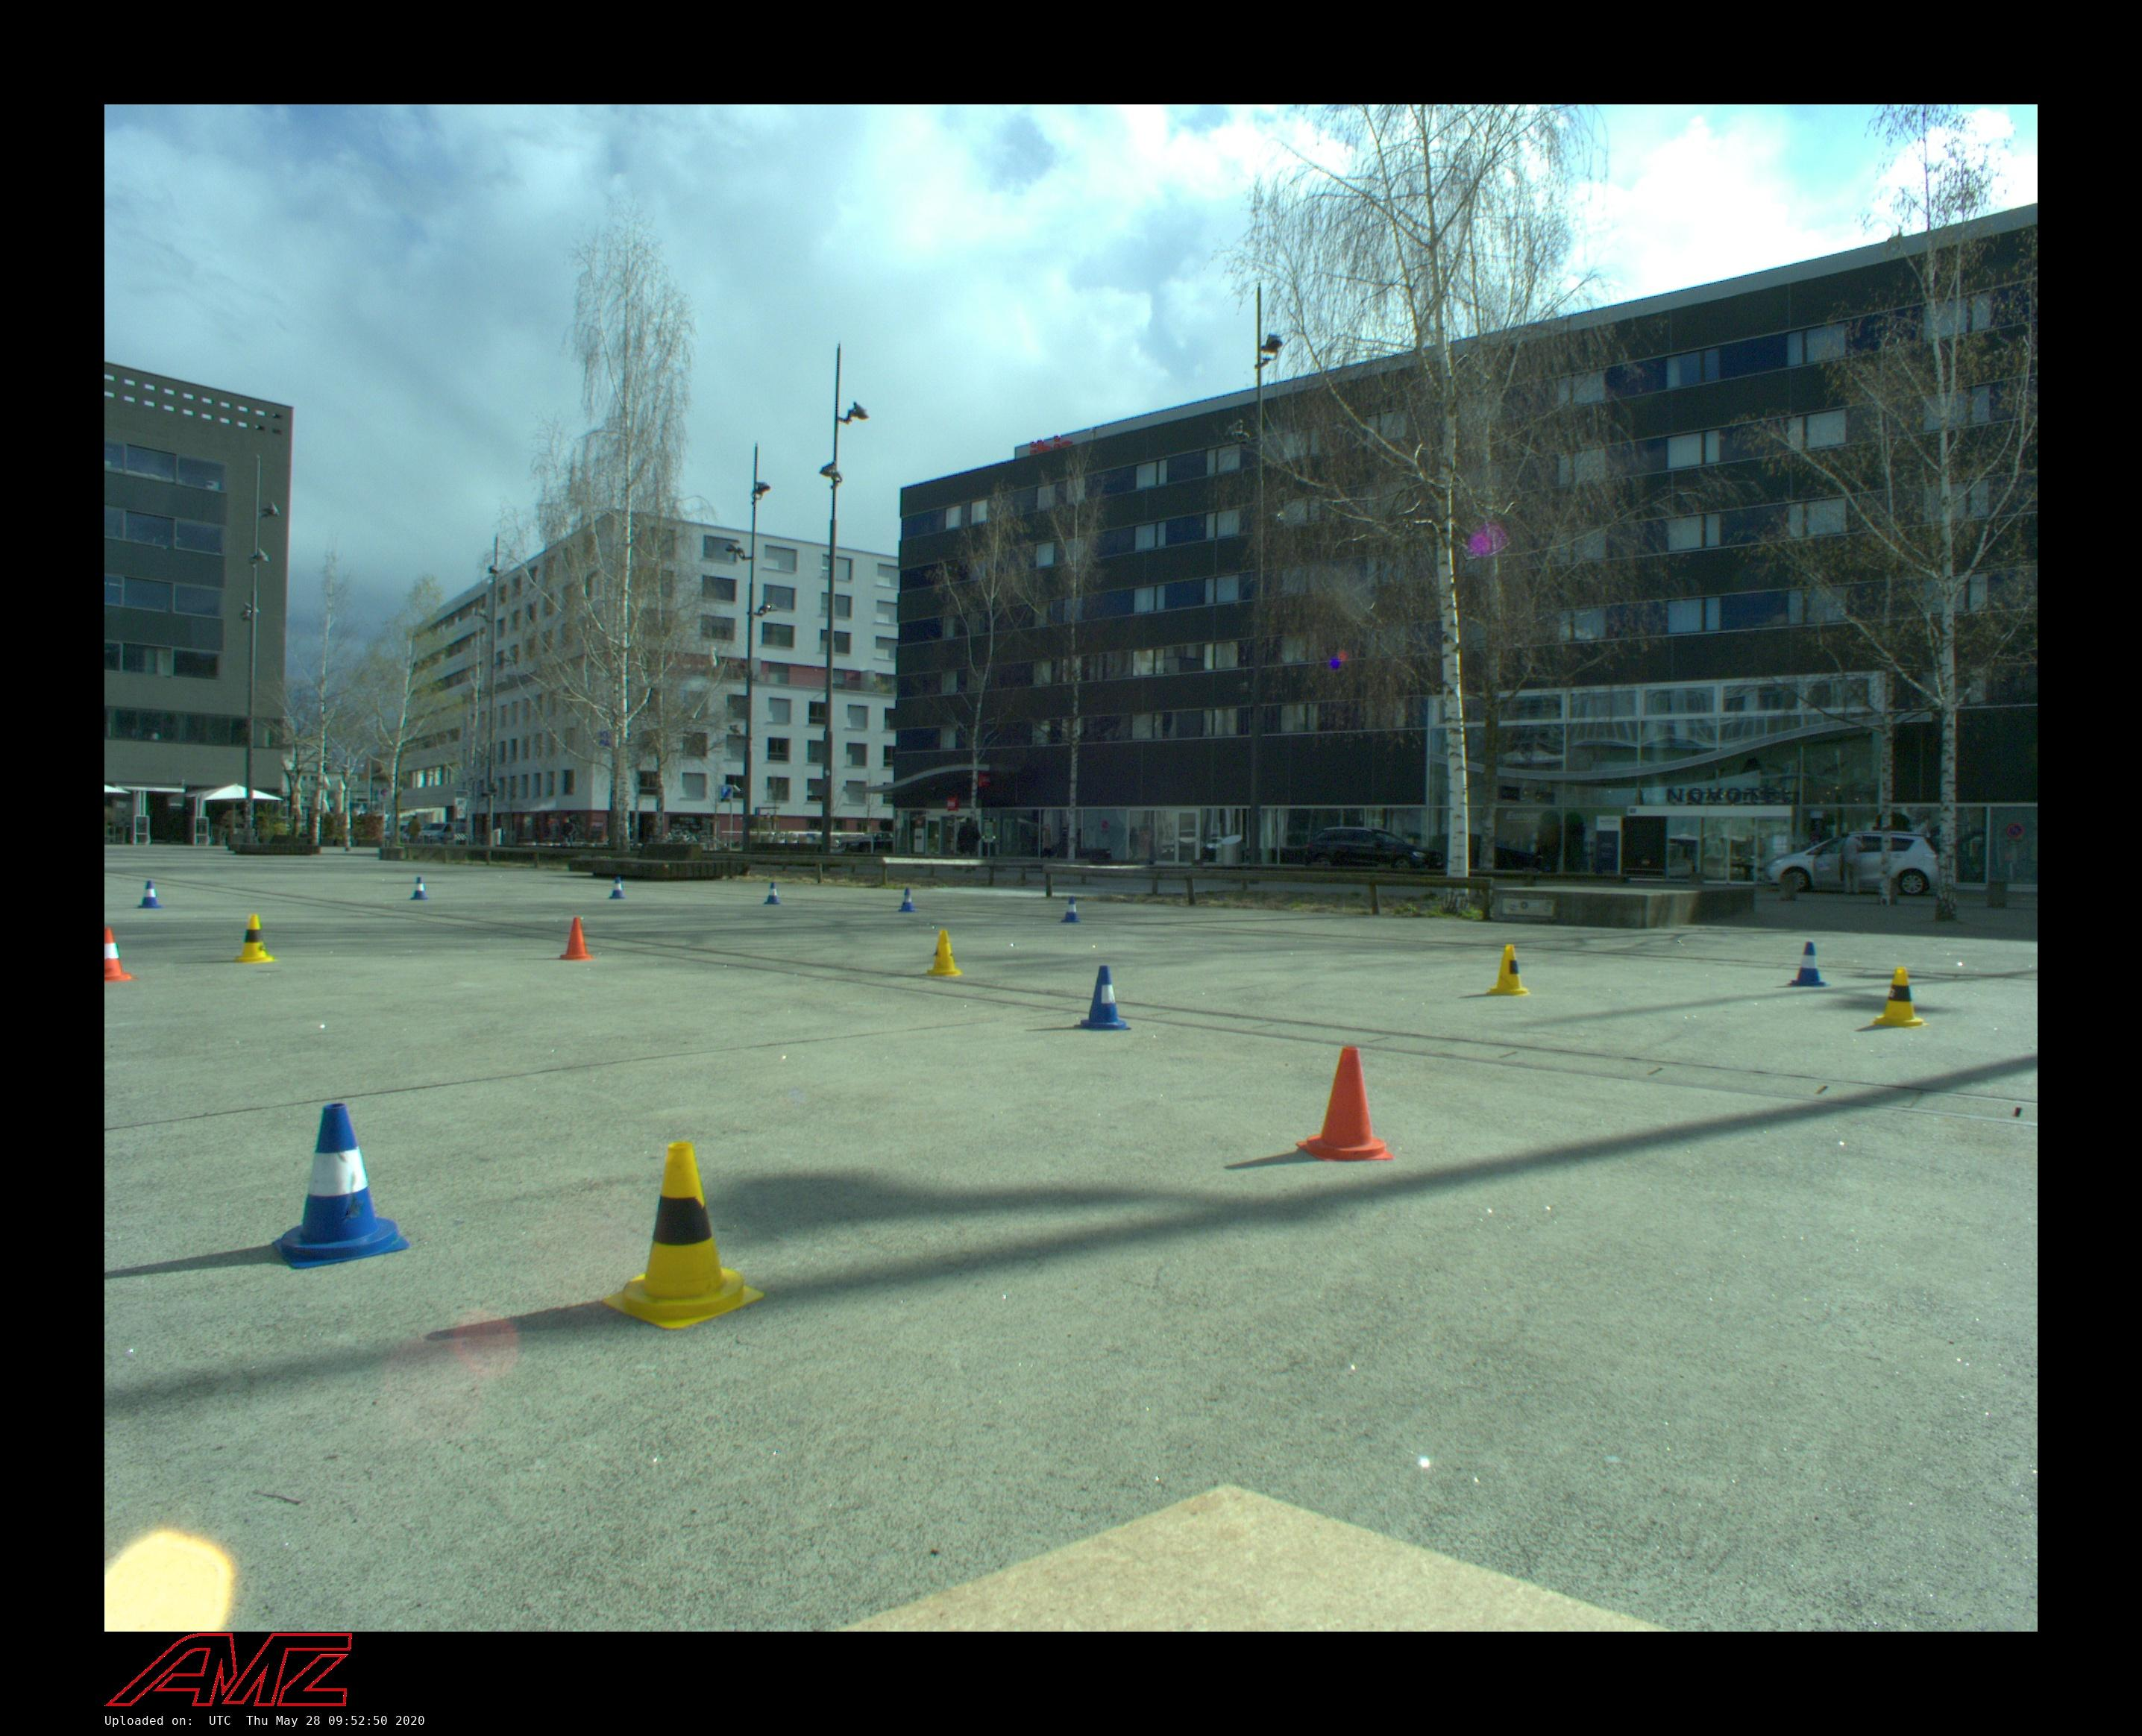blue_cone: (274, 1101, 407, 1270), (1073, 965, 1131, 1030), (1789, 941, 1830, 987), (137, 880, 163, 909), (1062, 896, 1080, 922), (897, 887, 917, 911), (411, 876, 428, 900), (609, 877, 626, 899), (764, 882, 780, 905)
orange_cone: (1295, 1047, 1393, 1161), (104, 927, 138, 982), (559, 917, 596, 960)
yellow_cone: (597, 1141, 763, 1331), (1872, 966, 1930, 1028), (1489, 943, 1531, 997), (234, 913, 277, 963), (926, 928, 962, 977)
